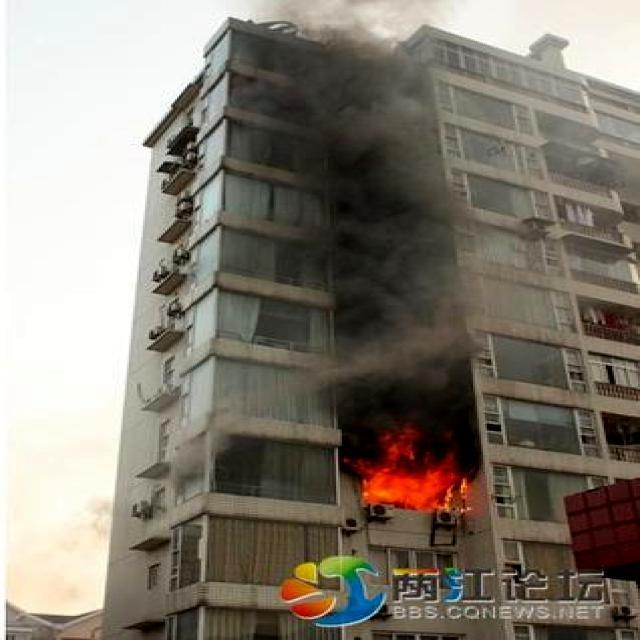Fire: (356, 431, 472, 517)
Smoke: (256, 14, 487, 429)
